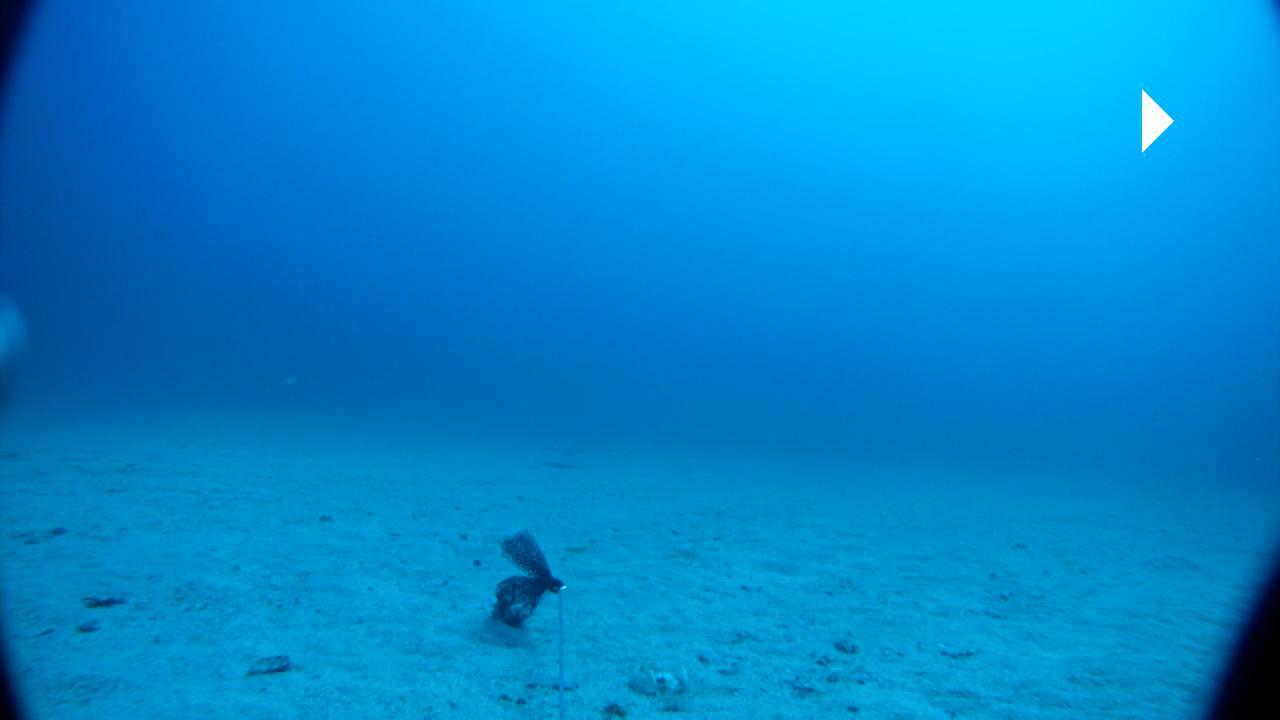dasyatis: (545, 437, 611, 460)
